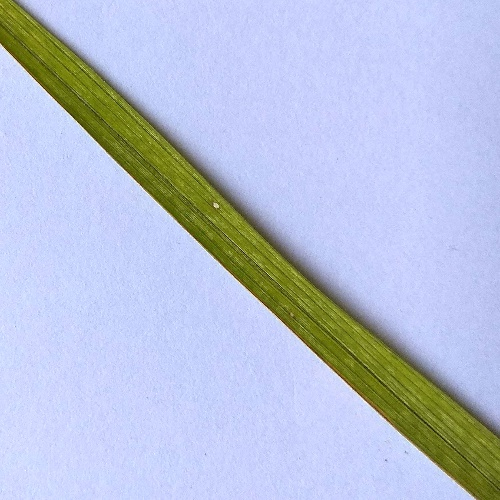Busuk Leher: (205, 193, 226, 216)
